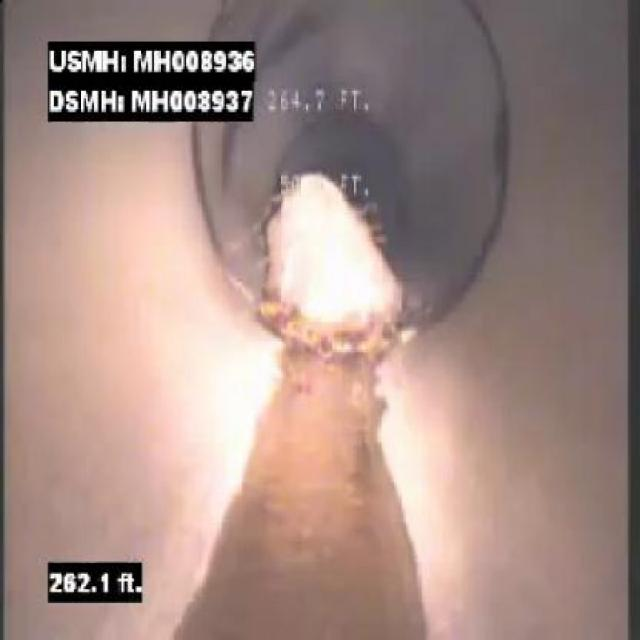Obstacle: (246, 149, 449, 360)
